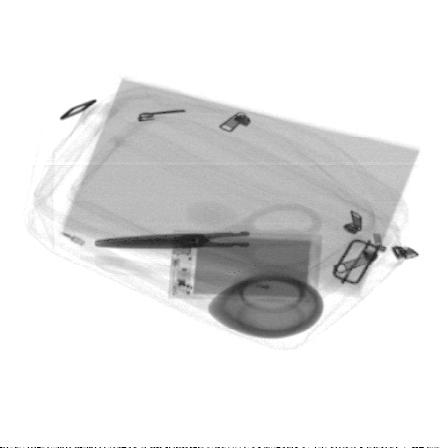Powerbank: (166, 227, 321, 304)
Scissors: (93, 203, 325, 274)
